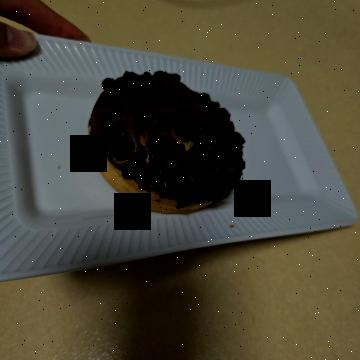doughnut: (45, 103, 223, 283)
